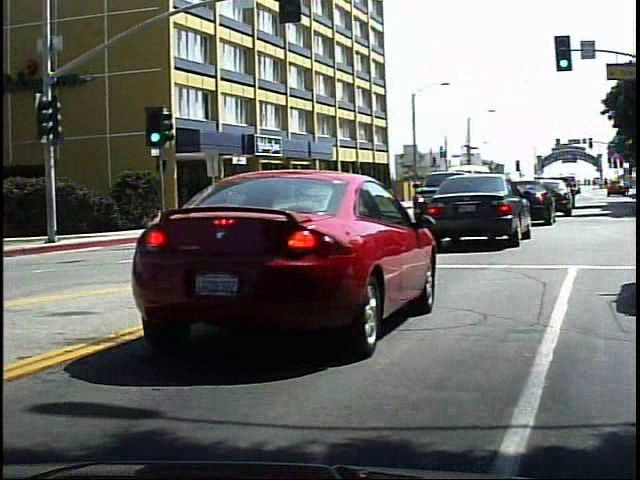person: (279, 184, 297, 222)
